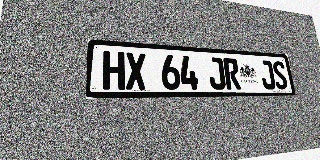4: (179, 55, 199, 90)
6: (160, 54, 181, 90)
H: (103, 51, 125, 90)
J: (207, 57, 226, 90), (259, 60, 276, 89)
R: (223, 58, 241, 89)
S: (272, 61, 289, 89)
X: (125, 52, 147, 90)
